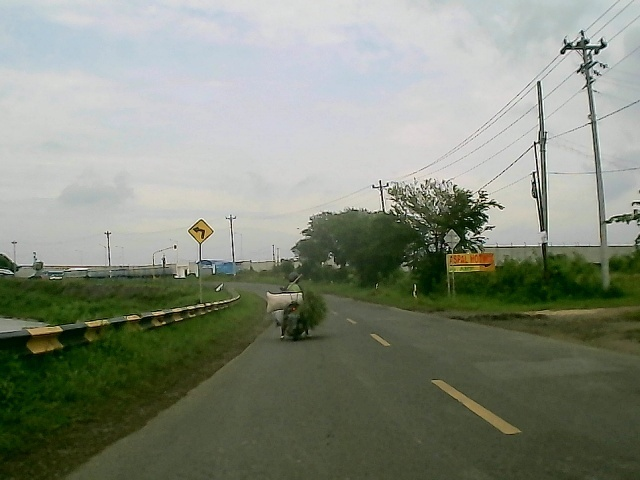Tikungan tajam ke kiri: (186, 218, 216, 244)
